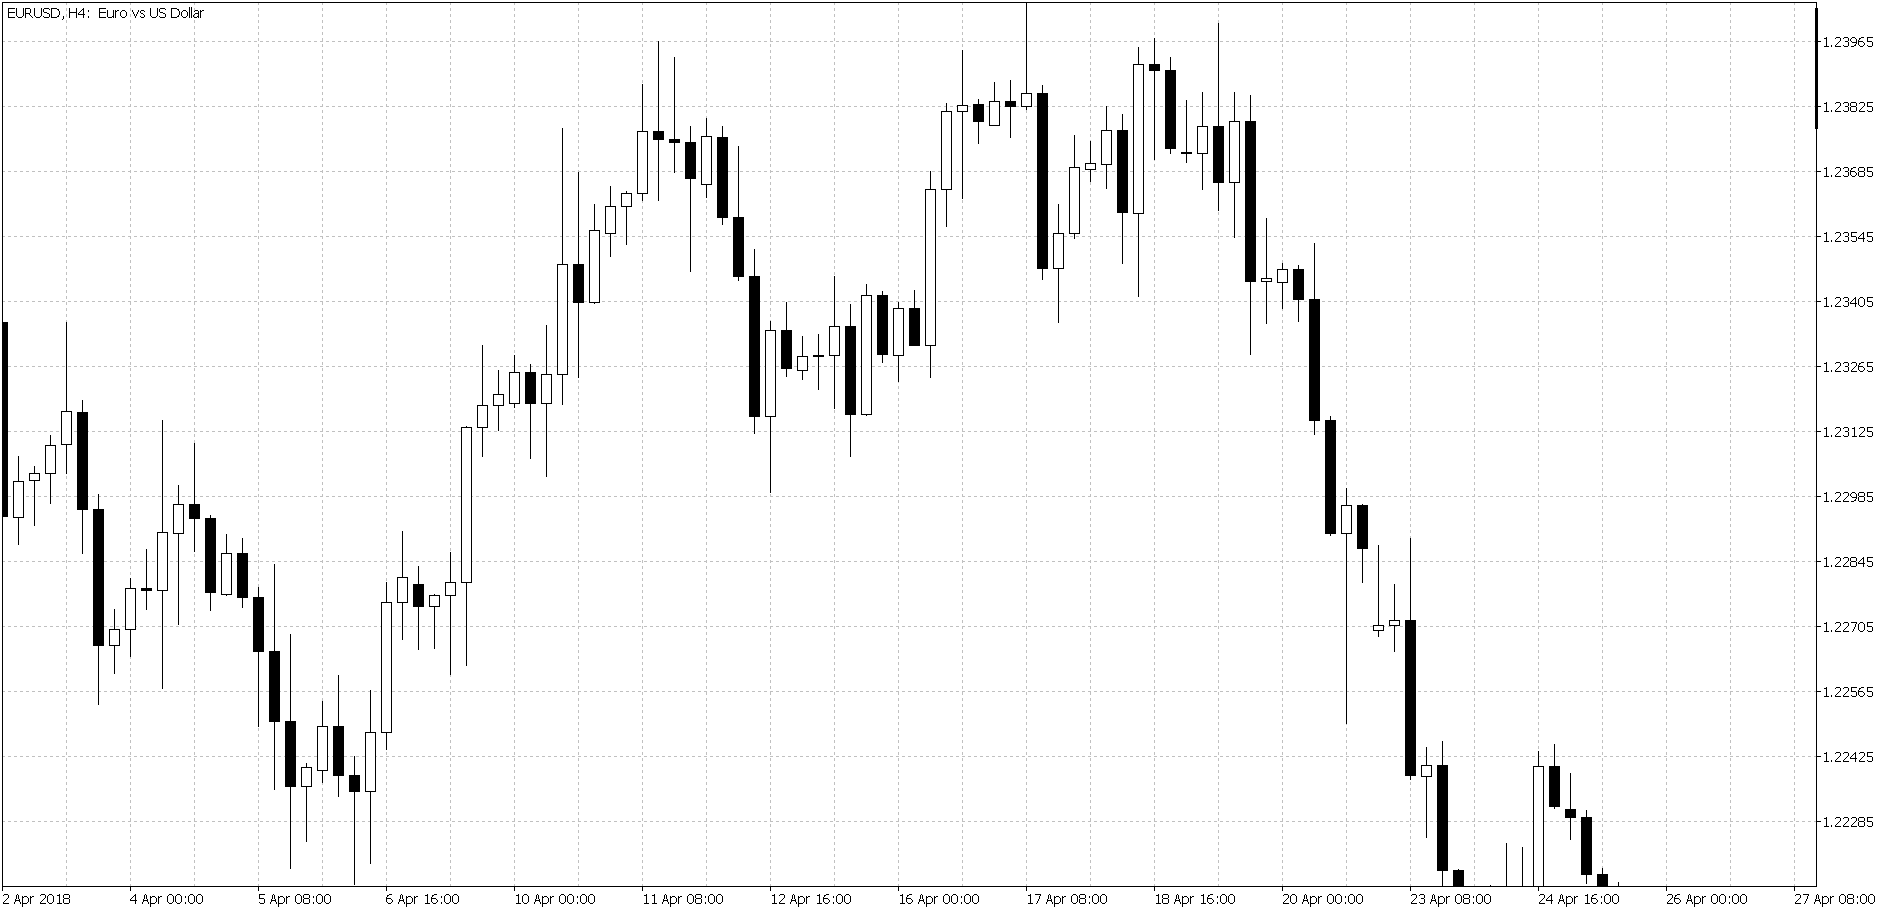bearishEngulfing: (59, 355, 91, 543)
hammer: (428, 591, 442, 641)
